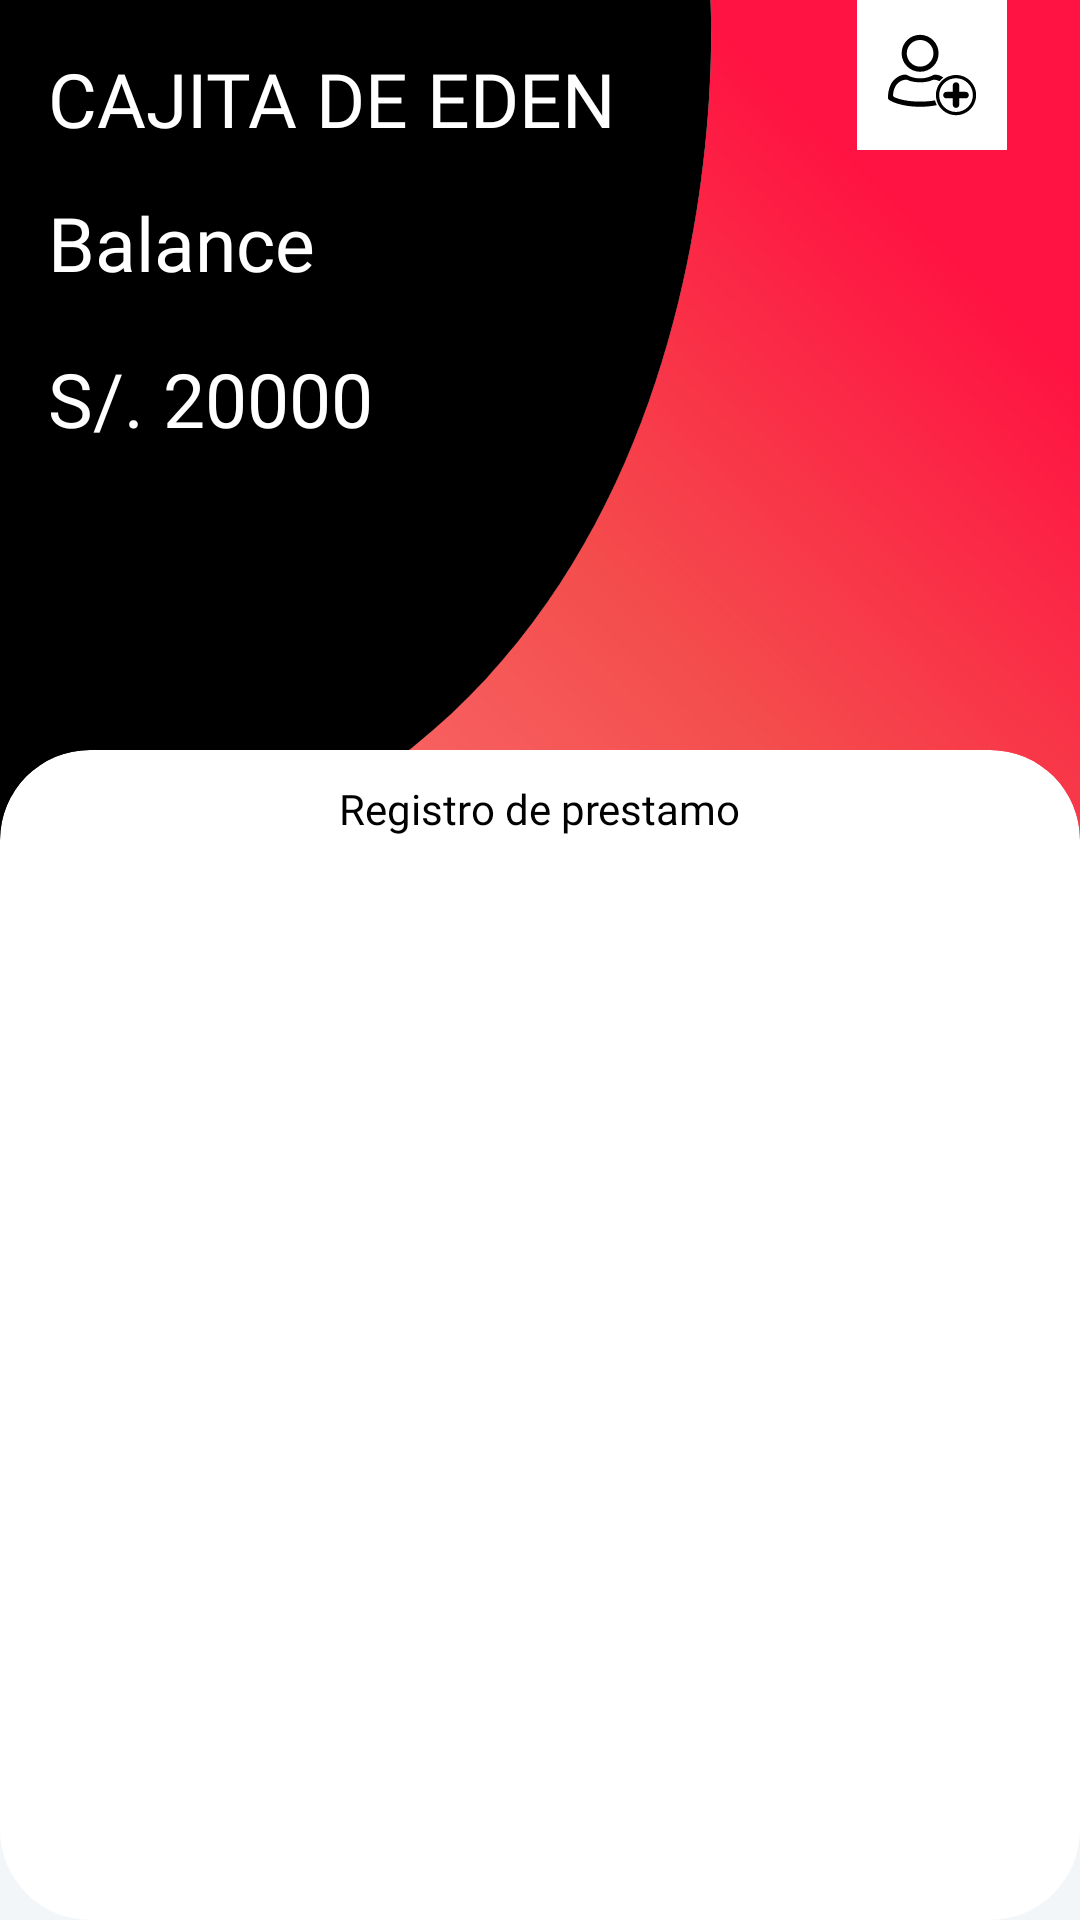

Icons on this 1080px x 1920px Android screen, each with the point to tap as (x=x, y=y):
user: (x=932, y=75)
